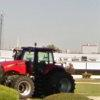Tractor: (5, 35, 79, 100)
